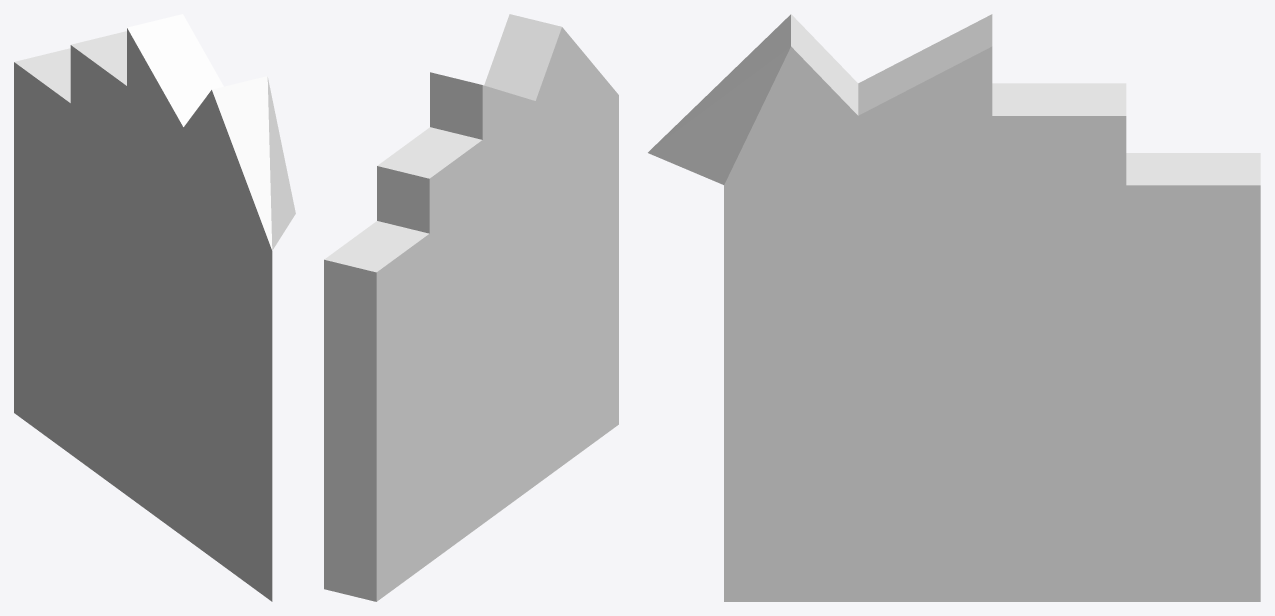
3 views of the same model, side by side, from view 1: azimuth 30°, elevation 25°; view 2: azimuth 150°, elevation 25°; view 3: azimuth 270°, elevation 25° (orthographic). The views are drawn at different scales.
Size of the model in its own units: 16 by 128 by 128.
1 material, 1 textured.
